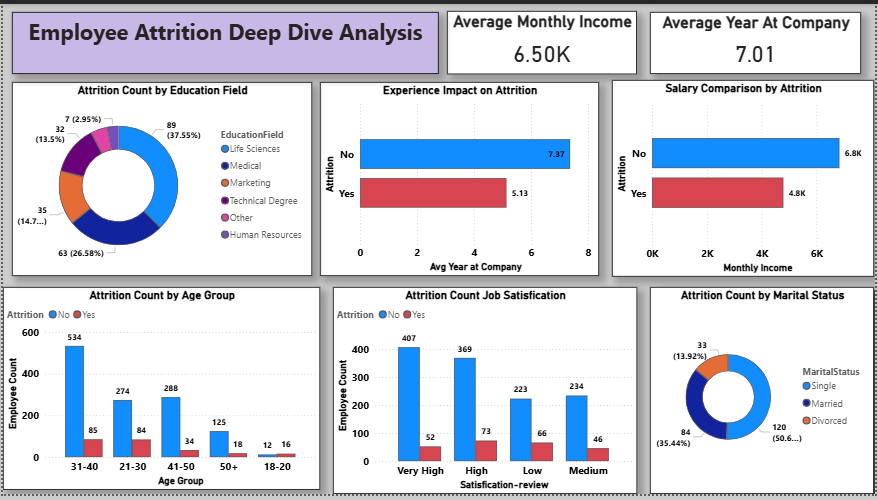

The page's visual inventory and layout, read from the dashboard file:
{"tool":"powerbi","page":{"name":"Deep","canvas":[1280,720],"ordinal":1},"visuals":[{"type":"card","title":"Average Monthly Income","fields":{"Values":["Avg(HR-Attrition-Cleaned.MonthlyIncome)"]},"box":[652.4,10.3,279.2,92.6],"z":0},{"type":"card","title":"Average Year At Company","fields":{"Values":["Avg(HR-Attrition-Cleaned.YearsAtCompany)"]},"box":[950.7,11.8,310,91.1],"z":1000},{"type":"clusteredBarChart","title":"Salary Comparison by Attrition","fields":{"Category":["HR-Attrition-Cleaned.Attrition"],"Y":["Avg(HR-Attrition-Cleaned.MonthlyIncome)"]},"box":[894.9,111.7,385,289.5],"z":2000},{"type":"clusteredColumnChart","title":"Attrition Count by Age Group","fields":{"Category":["HR-Attrition-Cleaned.Age Group"],"Y":["Sum(HR-Attrition-Cleaned.EmployeeCount)"],"Series":["HR-Attrition-Cleaned.Attrition"]},"box":[0,415.8,465.8,298.3],"z":3000},{"type":"clusteredBarChart","title":"Experience Impact on Attrition","fields":{"Category":["HR-Attrition-Cleaned.Attrition"],"Y":["Avg(HR-Attrition-Cleaned.YearsAtCompany)"]},"box":[465.8,114.6,410,285.1],"z":4000},{"type":"clusteredColumnChart","title":"Attrition Count Job Satisfication","fields":{"Y":["Sum(HR-Attrition-Cleaned.EmployeeCount)"],"Series":["HR-Attrition-Cleaned.Attrition"],"Category":["HR-Attrition-Cleaned.Satisfication-review"]},"box":[484.9,415.8,446.7,304.2],"z":5000},{"type":"donutChart","title":"Attrition Count by Marital Status","fields":{"Y":["Sum(HR-Attrition-Cleaned.Attrition Count)"],"Category":["HR-Attrition-Cleaned.MaritalStatus"]},"box":[958,421.7,321.8,298.3],"z":6000},{"type":"donutChart","title":"Attrition Count by Marital Status","fields":{"Y":["Sum(HR-Attrition-Cleaned.Attrition Count)"],"Category":["HR-Attrition-Cleaned.MaritalStatus"]},"box":[958.2,421.7,321.8,298.3],"z":7000},{"type":"donutChart","title":"Attrition Count by Marital Status","fields":{"Y":["Sum(HR-Attrition-Cleaned.Attrition Count)"],"Category":["HR-Attrition-Cleaned.MaritalStatus"]},"box":[958.2,421.7,321.8,298.3],"z":8000},{"type":"donutChart","title":"Attrition Count by Marital Status","fields":{"Y":["Sum(HR-Attrition-Cleaned.Attrition Count)"],"Category":["HR-Attrition-Cleaned.MaritalStatus"]},"box":[958.2,421.7,321.8,298.3],"z":9000},{"type":"donutChart","title":"Attrition Count by Marital Status","fields":{"Y":["Sum(HR-Attrition-Cleaned.Attrition Count)"],"Category":["HR-Attrition-Cleaned.MaritalStatus"]},"box":[950.7,415.8,329.1,304.2],"z":10000},{"type":"donutChart","title":"Attrition Count by Education Field","fields":{"Category":["HR-Attrition-Cleaned.EducationField"],"Y":["Sum(HR-Attrition-Cleaned.Attrition Count)"]},"box":[13.2,114.6,440.8,285.1],"z":11000},{"type":"textbox","box":[13.2,11.8,627.4,91.1],"z":12000}]}

Visuals, with their boxes in screenshot pixels (x1, y1, x2, y2), scaled from the page's 1280x720 canvas onto the 878x500 screenshot:
"Average Monthly Income" card: select_region(448, 7, 639, 71)
"Average Year At Company" card: select_region(652, 8, 865, 71)
"Salary Comparison by Attrition" clusteredBarChart: select_region(614, 78, 877, 279)
"Attrition Count by Age Group" clusteredColumnChart: select_region(0, 289, 320, 496)
"Experience Impact on Attrition" clusteredBarChart: select_region(320, 80, 601, 278)
"Attrition Count Job Satisfication" clusteredColumnChart: select_region(333, 289, 639, 499)
"Attrition Count by Marital Status" donutChart: select_region(657, 293, 877, 499)
"Attrition Count by Marital Status" donutChart: select_region(657, 293, 877, 499)
"Attrition Count by Marital Status" donutChart: select_region(657, 293, 877, 499)
"Attrition Count by Marital Status" donutChart: select_region(657, 293, 877, 499)
"Attrition Count by Marital Status" donutChart: select_region(652, 289, 877, 499)
"Attrition Count by Education Field" donutChart: select_region(9, 80, 311, 278)
textbox: select_region(9, 8, 439, 71)
